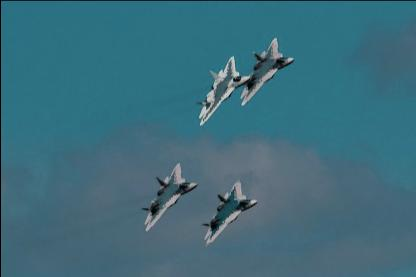SR71: (140, 162, 198, 232), (194, 55, 250, 125), (200, 180, 258, 246), (240, 37, 295, 105)
